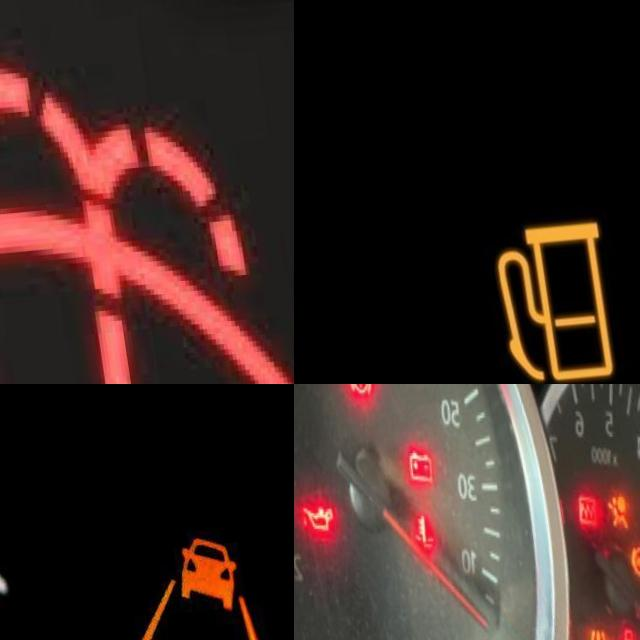High Engine Coolant Temperature: (397, 513, 428, 568)
Washer Fluid: (0, 53, 294, 384)
